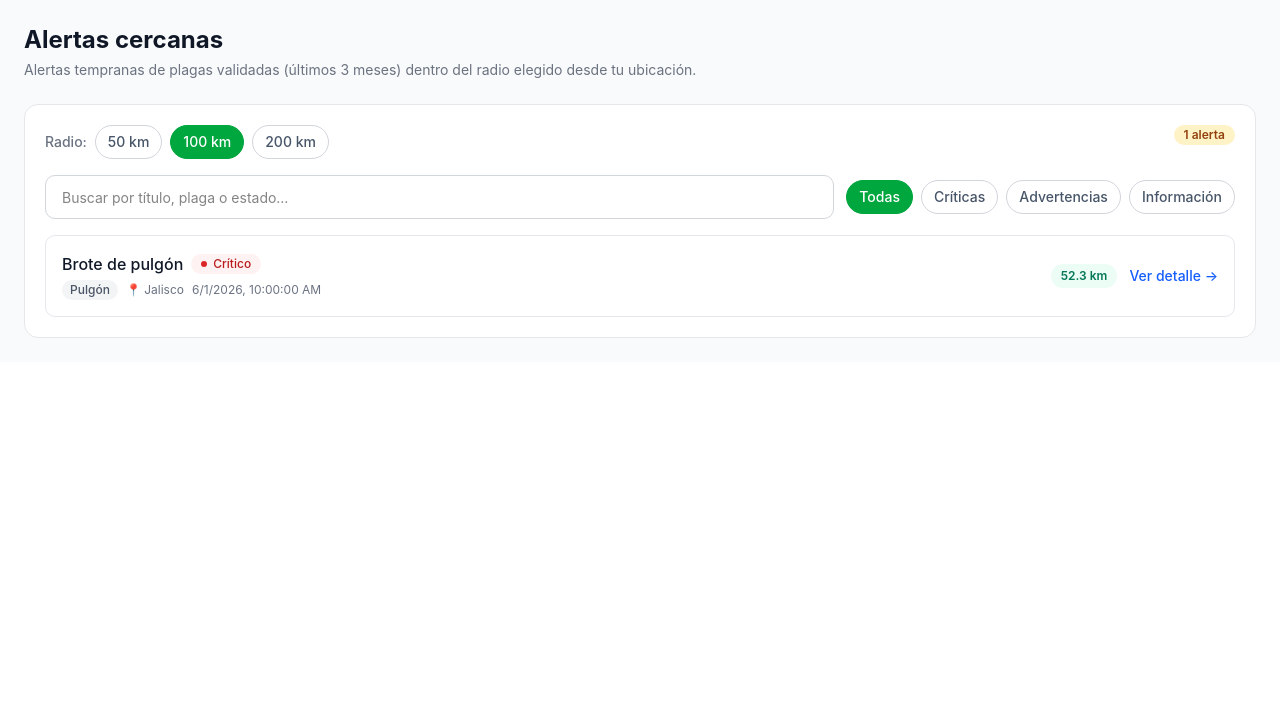
Test: AlertasCercanasPanel › shows alerts with distance and opens the detail modal on click
The image size is (1280, 720).
Expected: the text with test id "alert-distance" reads "52.3 km", [1061,268,1108,283]
Step 1. Click the button with test id "early-alert-row" → (123, 264), box [45,235,1235,317]
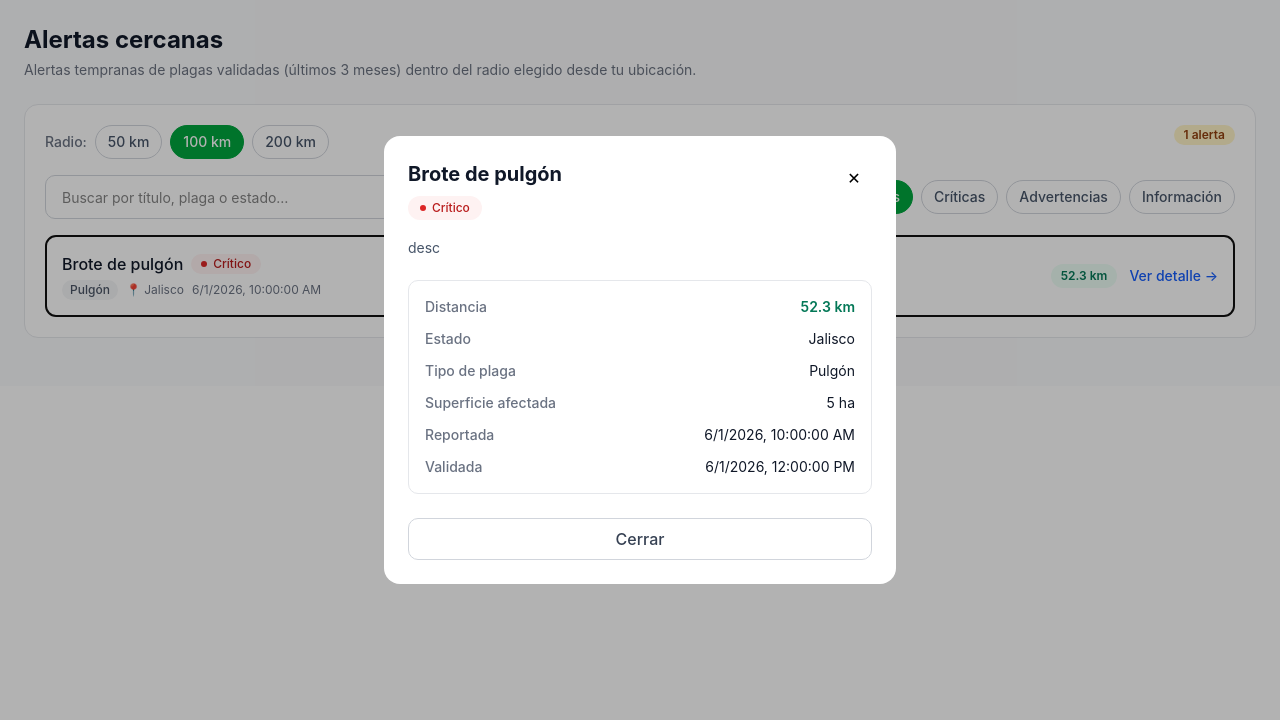
Expected: the element with test id "alert-detail-modal" is shown, [384,136,896,584]
